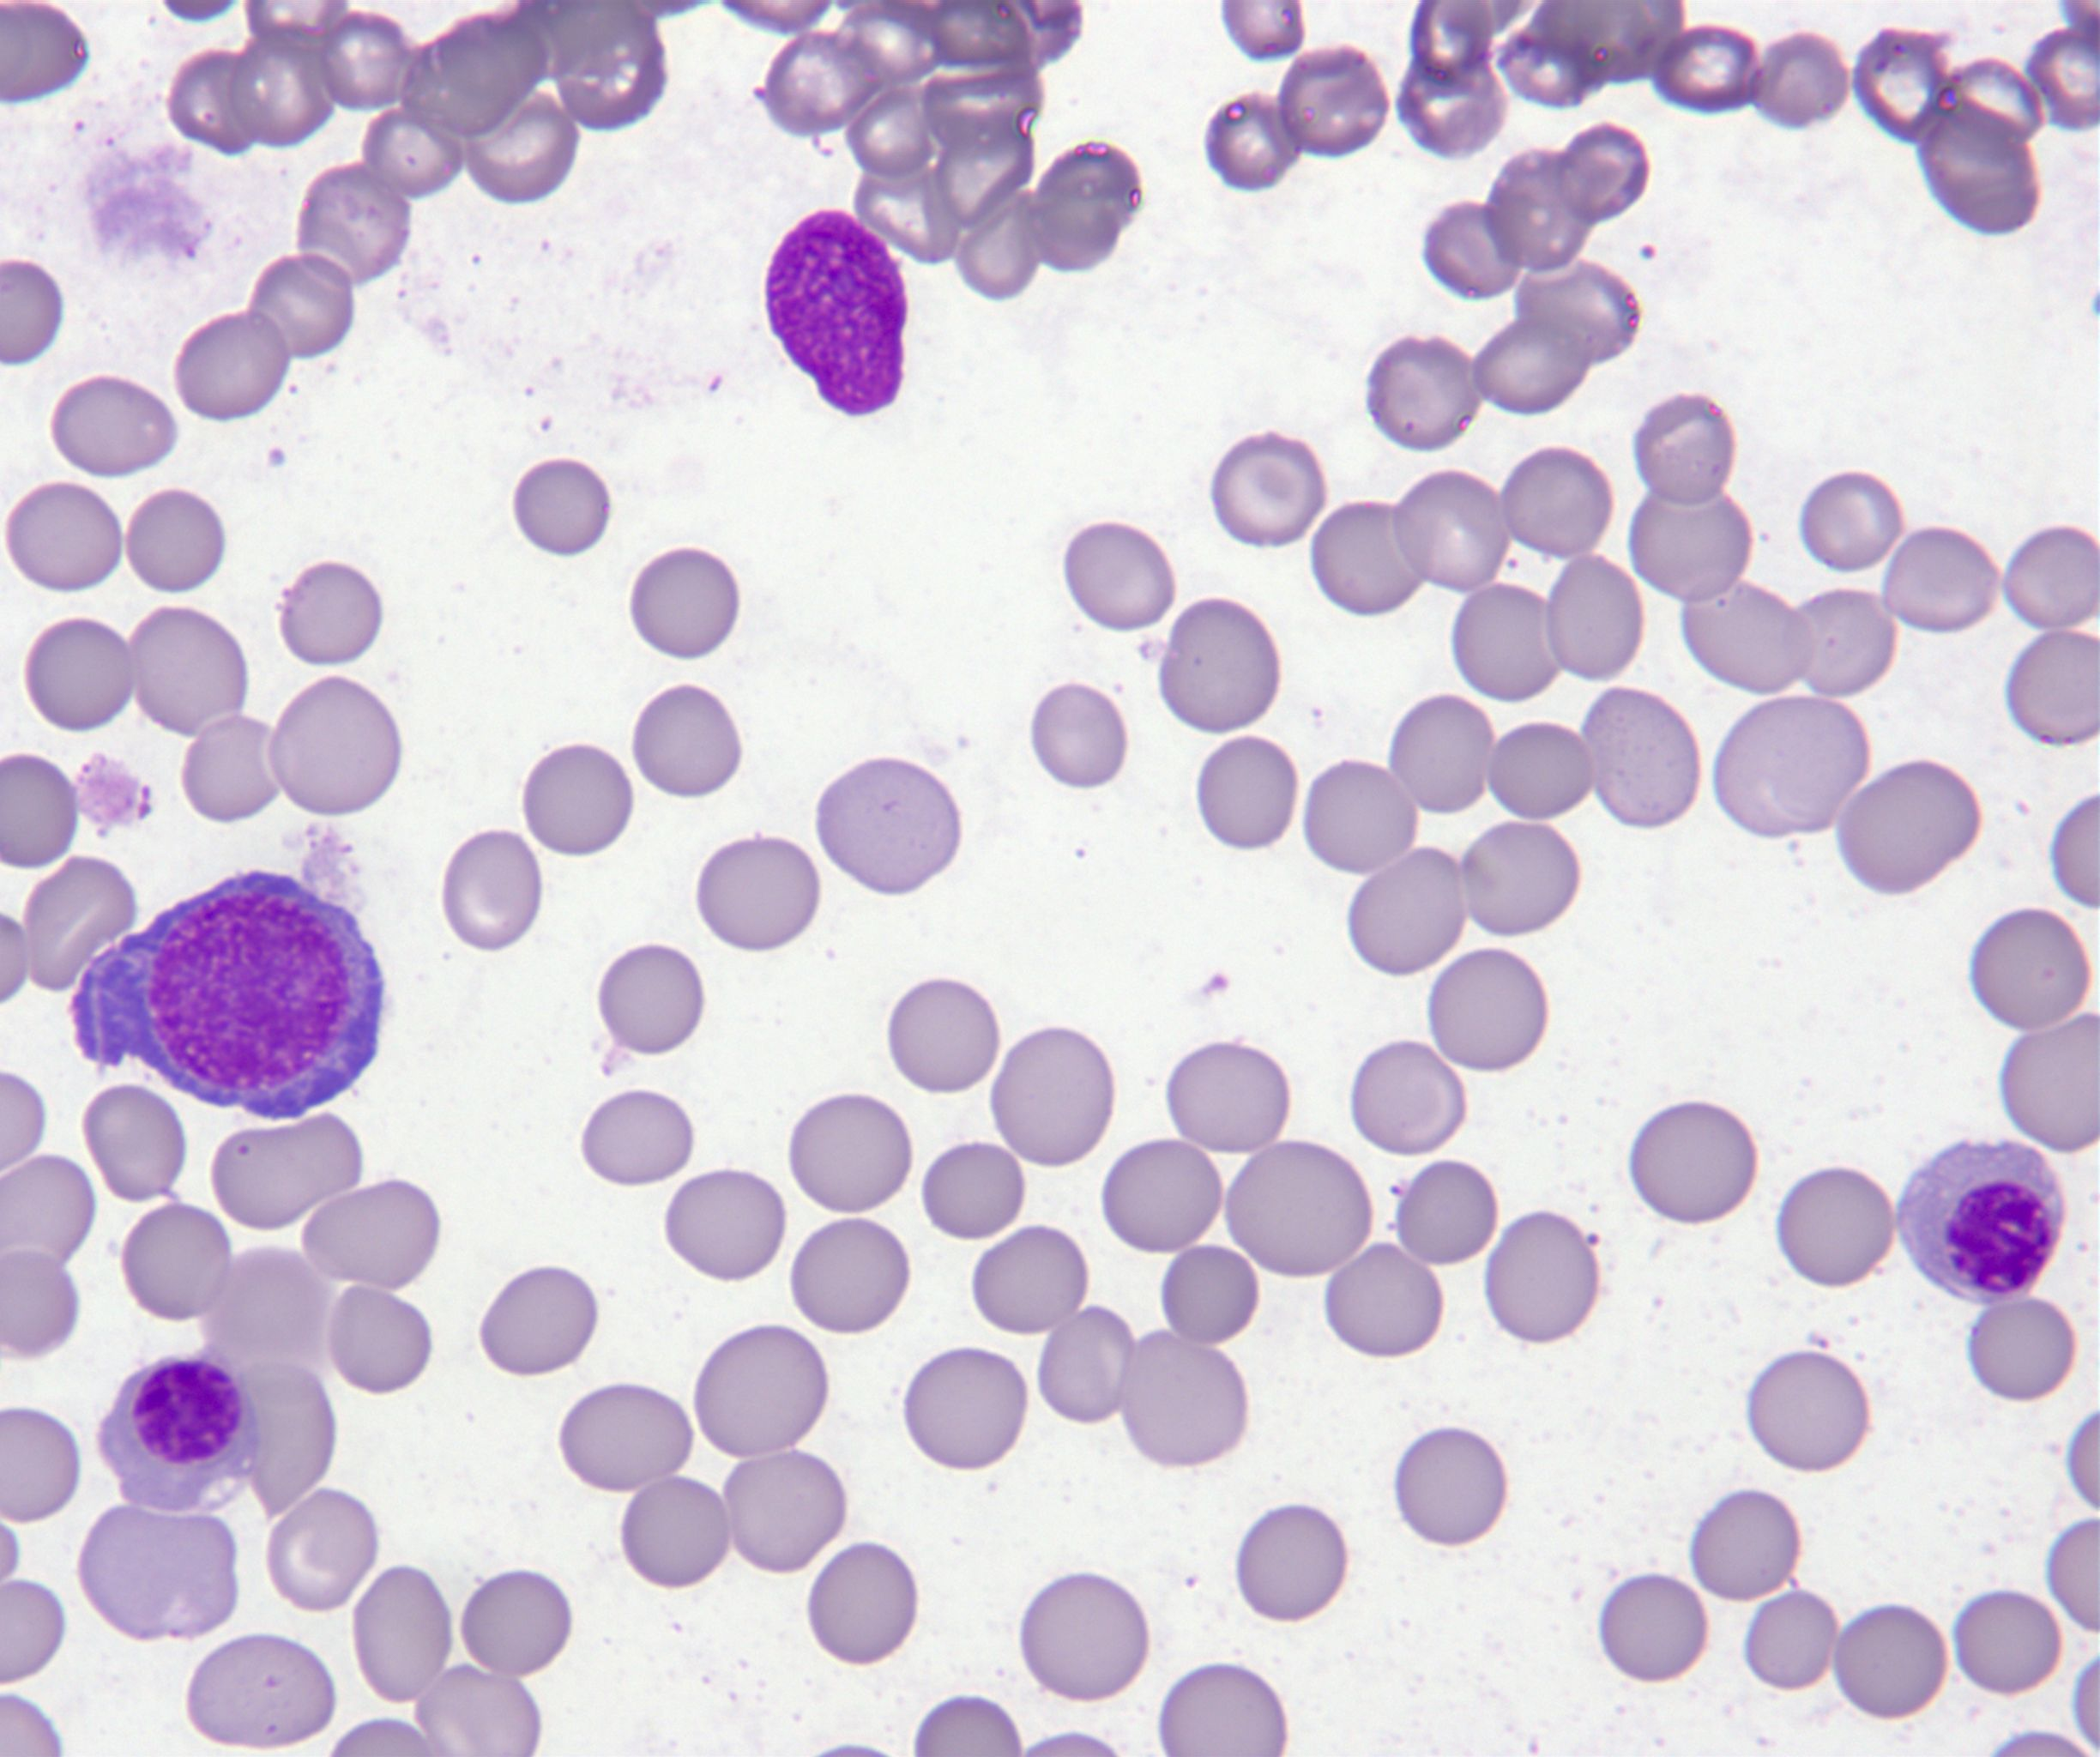22: (72, 871, 385, 1120)
24: (1894, 1139, 2065, 1307), (98, 1361, 253, 1513)
x: (764, 208, 907, 414)
